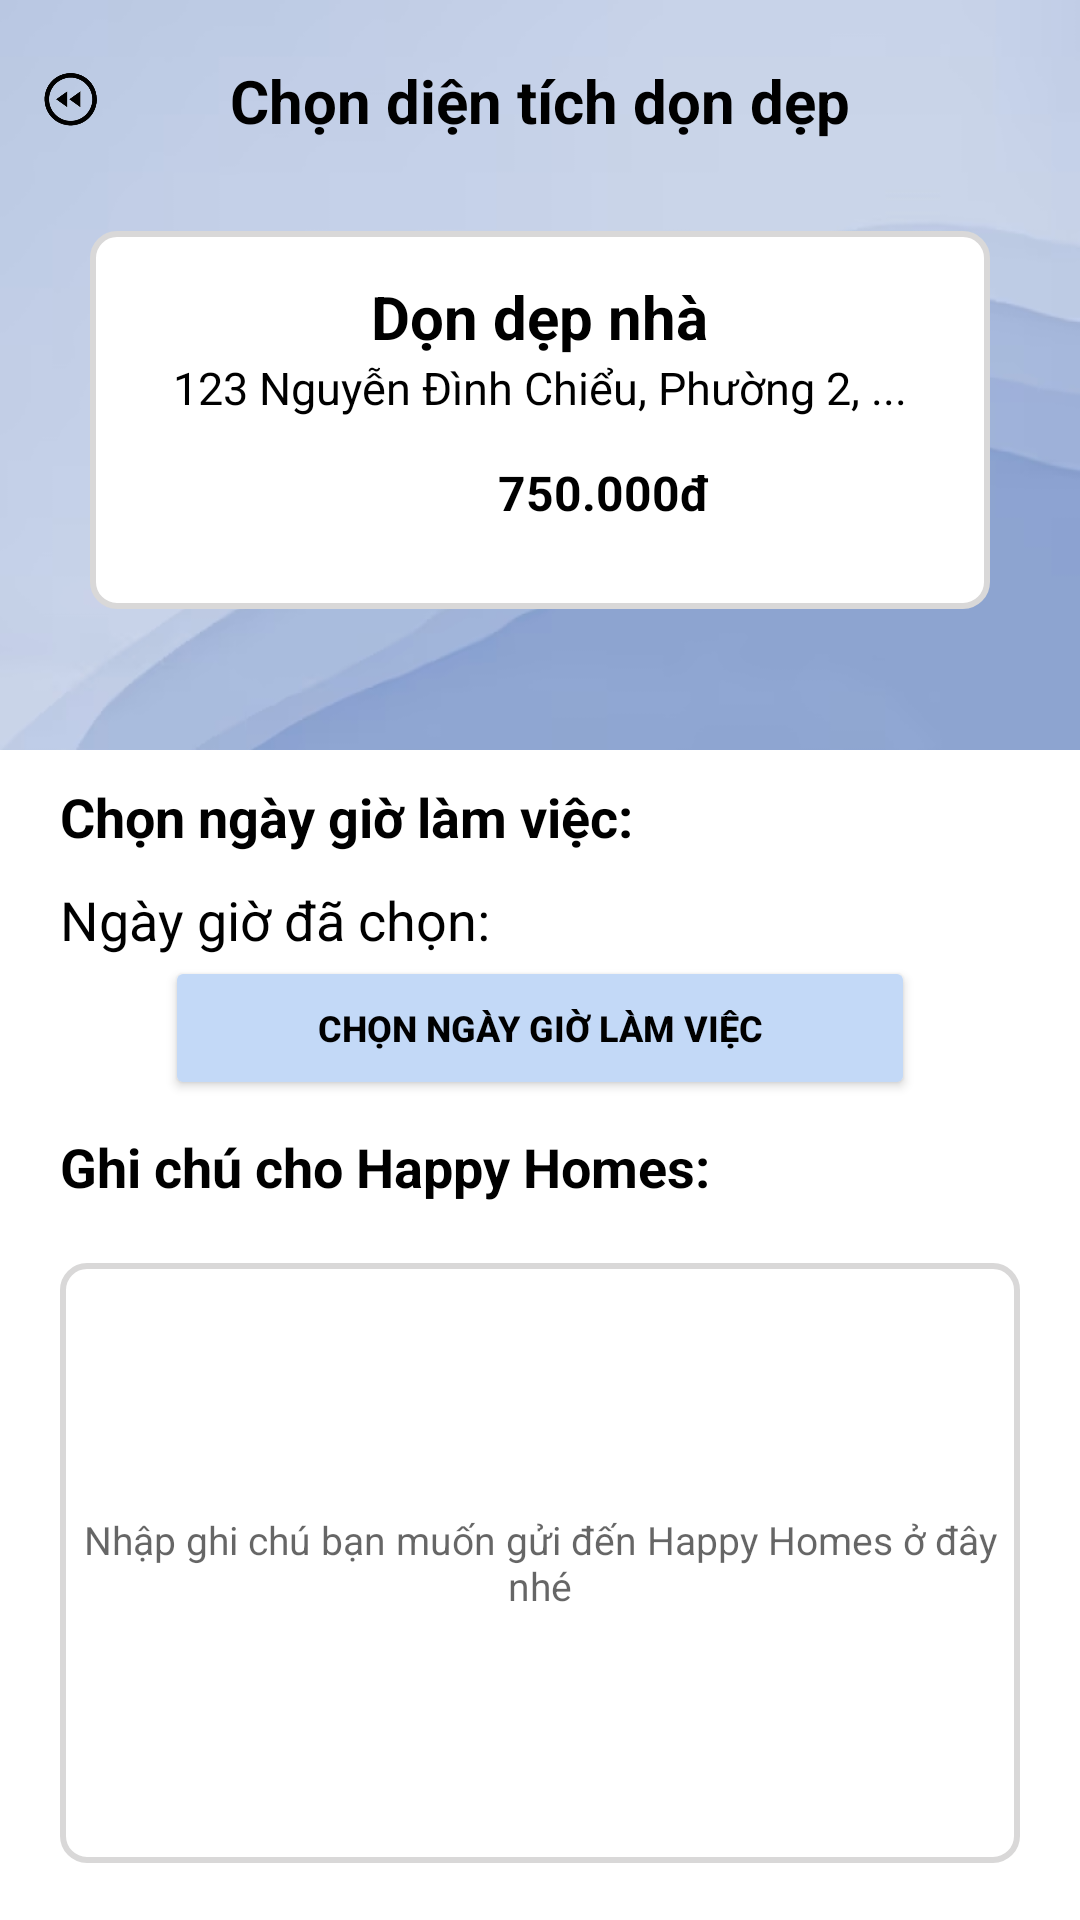

Where to tap for icons on this 1080×1920 app screen, as point (x, y):
back: point (70, 99)
